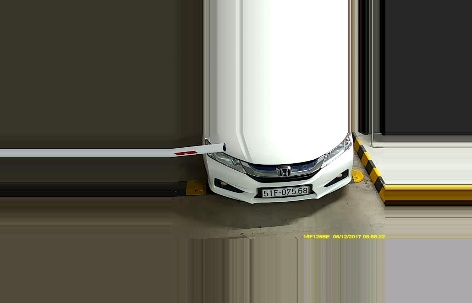plate: (256, 184, 311, 196)
